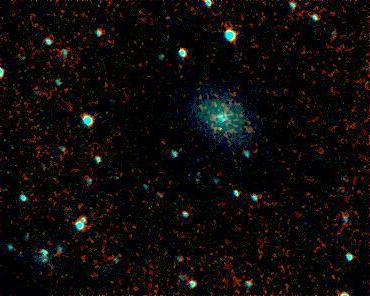star: (204, 113, 234, 143)
